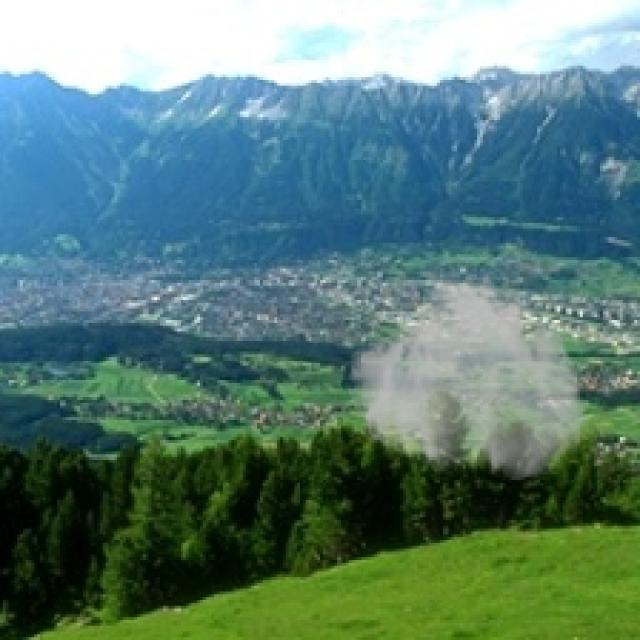Smoke: (346, 266, 592, 483)
